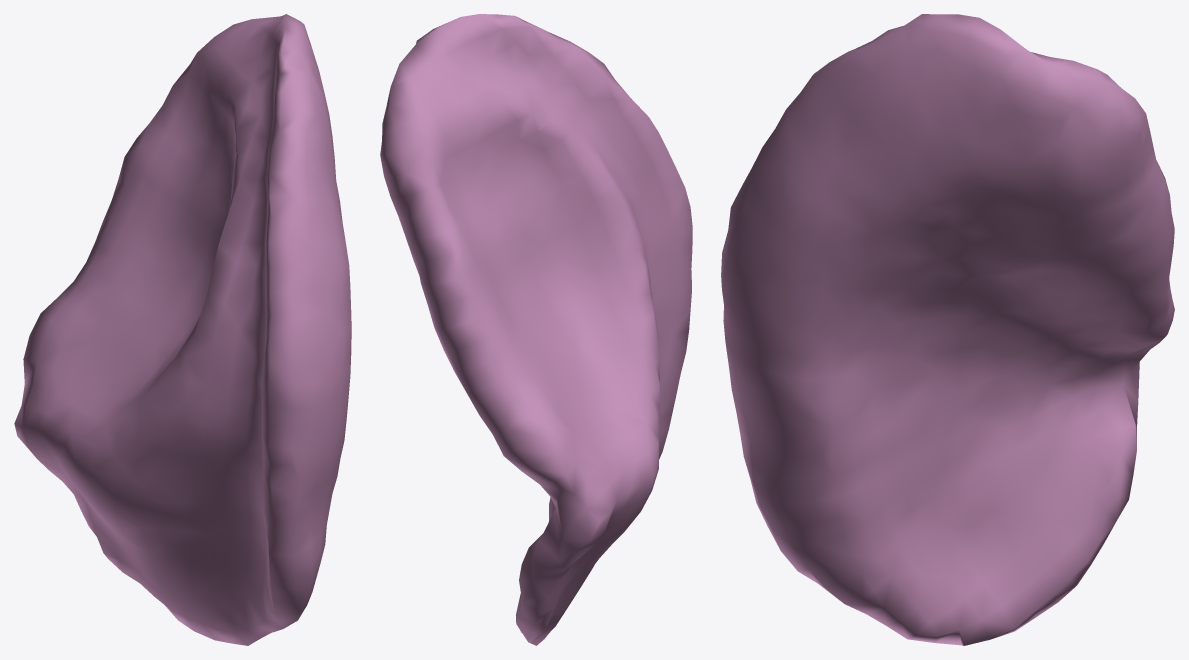
3 views of the same model, side by side, from view 1: azimuth 30°, elevation 25°; view 2: azimuth 150°, elevation 25°; view 3: azimuth 270°, elevation 25° (orthographic). The views are drawn at different scales.
Parts seen in each view (by area): view 1: 左侧豆状核; view 2: 左侧豆状核; view 3: 左侧豆状核.
Boxes of the visible parts, x1,y1,x2,y2 form: 左侧豆状核: (14, 14, 351, 645); 左侧豆状核: (380, 14, 692, 645); 左侧豆状核: (721, 14, 1174, 645).
Size of the model in its own units: 0.0327 by 0.0771 by 0.0473.
